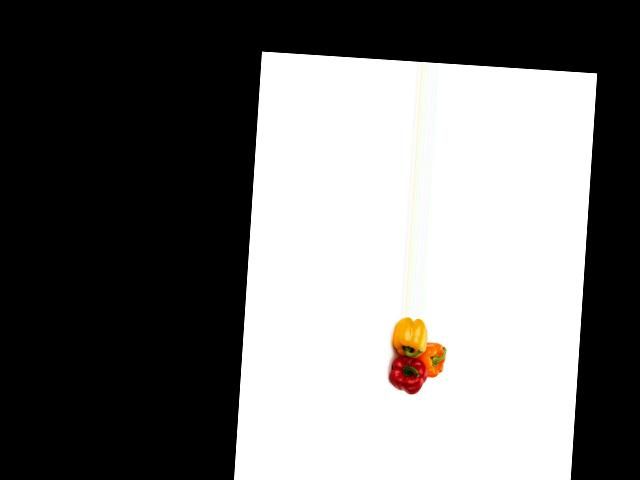bell_pepper: (388, 316, 429, 356)
